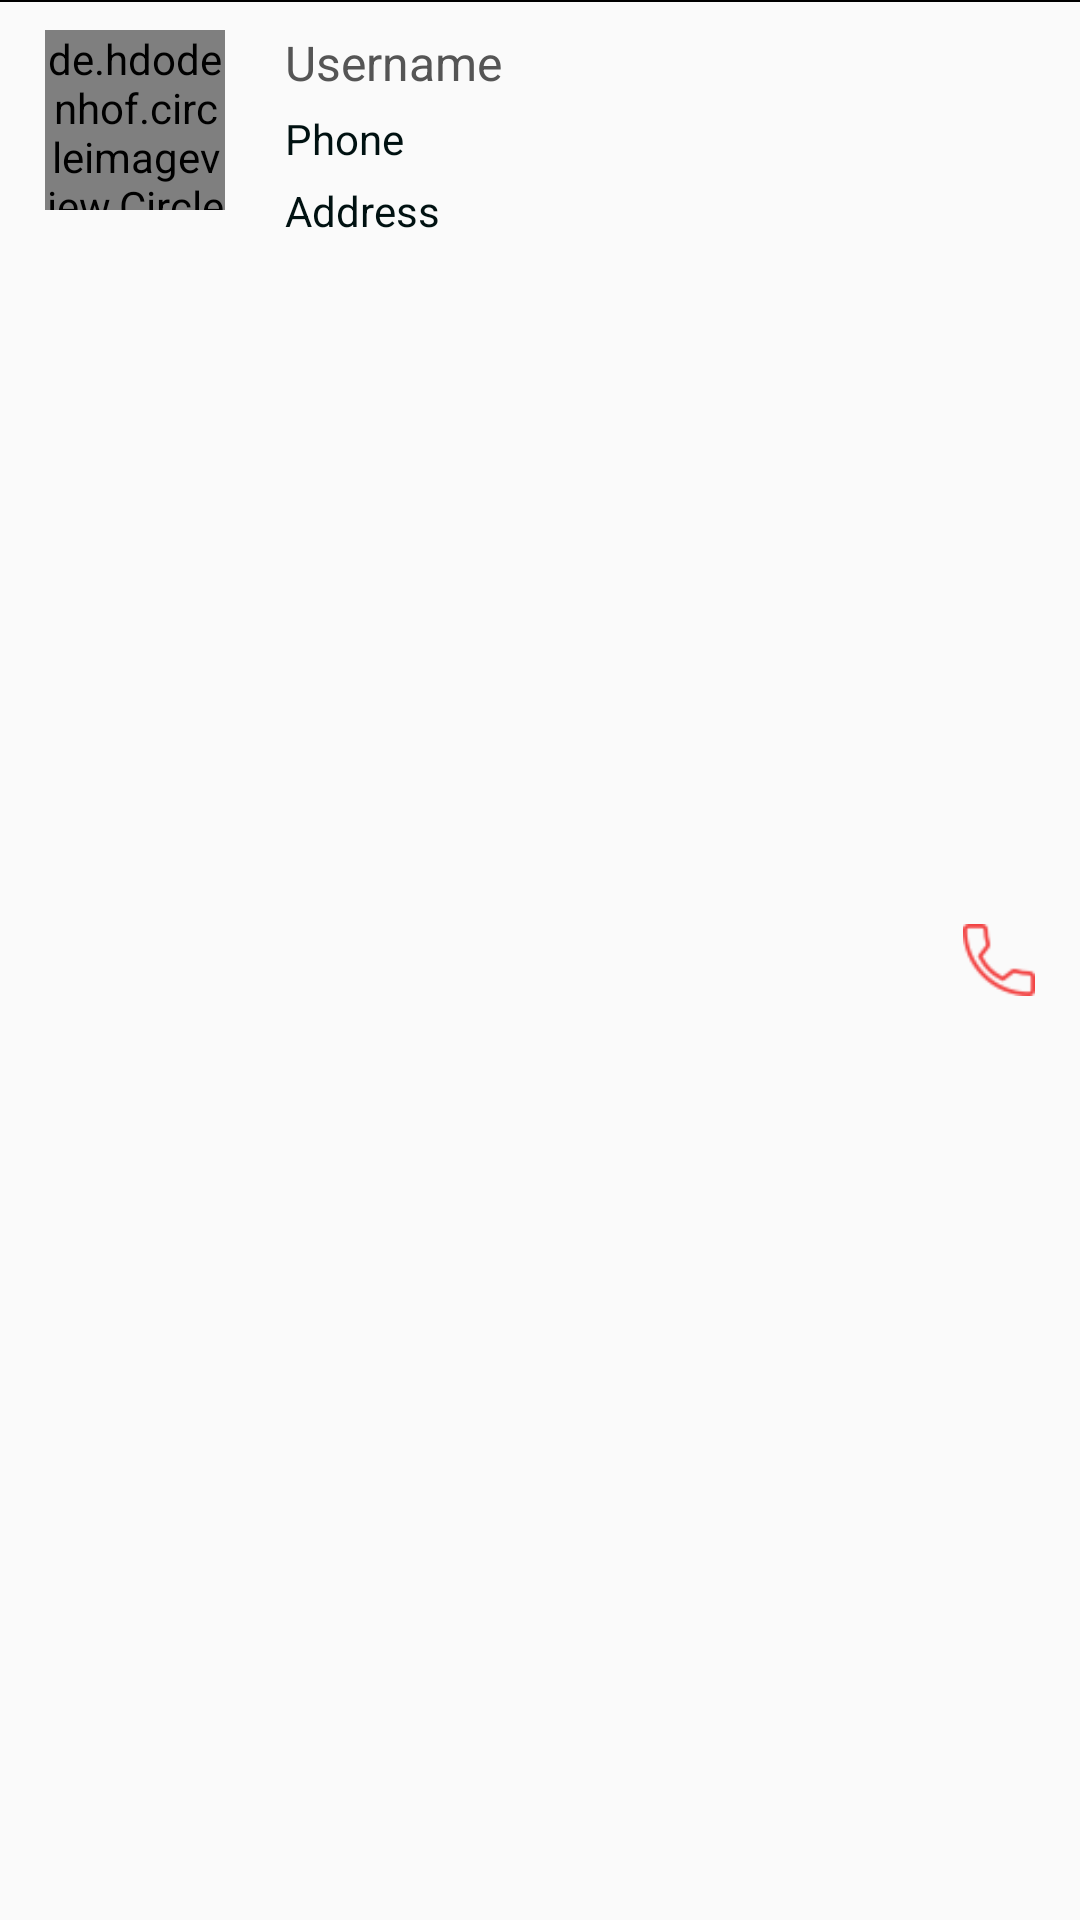

Icons on this 1080 x 1920 Android screen, each with its box as (x1, y1, x2, y2):
call: (963, 924, 1035, 996)
